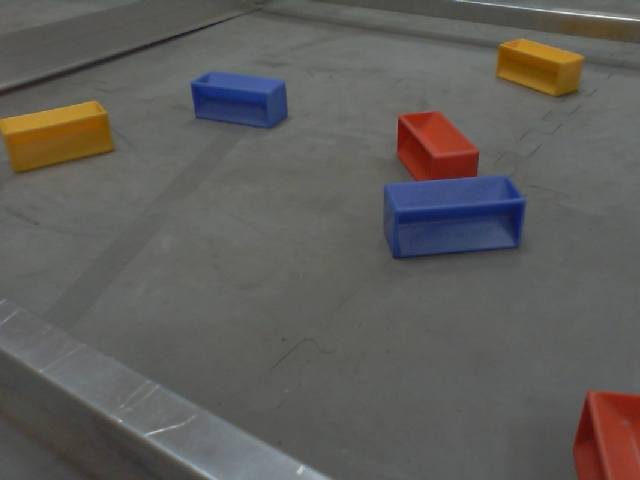BlueSample: (379, 173, 528, 264), (188, 68, 289, 132)
RedSample: (390, 105, 483, 185), (566, 387, 638, 480)
YellowSample: (1, 96, 115, 176), (492, 35, 587, 98)
